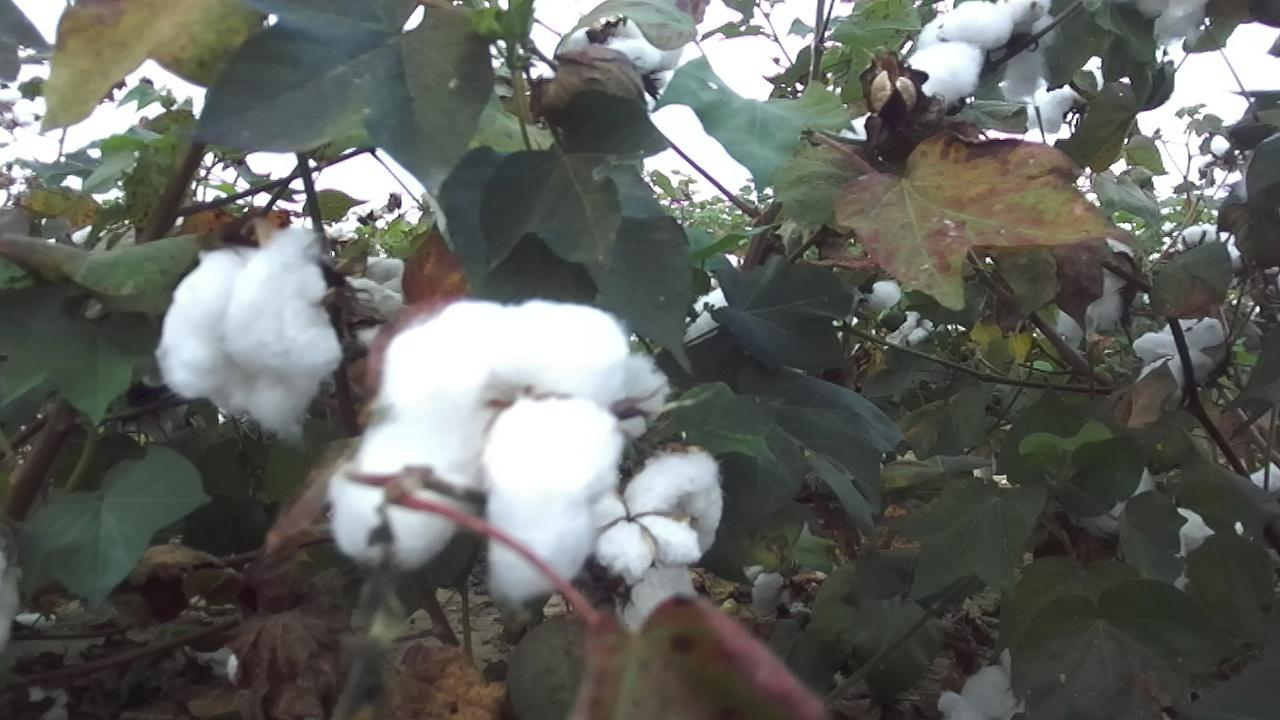cotton_ready: (332, 299, 625, 599), (156, 229, 342, 435), (620, 449, 725, 642), (591, 457, 700, 583), (912, 0, 1053, 97), (560, 17, 684, 109), (1054, 239, 1134, 343), (1133, 315, 1229, 389), (1076, 469, 1162, 539), (938, 650, 1019, 720), (344, 257, 409, 343), (1169, 504, 1219, 603), (1162, 224, 1245, 282), (680, 284, 732, 349), (1137, 0, 1212, 45), (742, 563, 792, 619), (1034, 81, 1084, 134), (0, 547, 22, 652)
